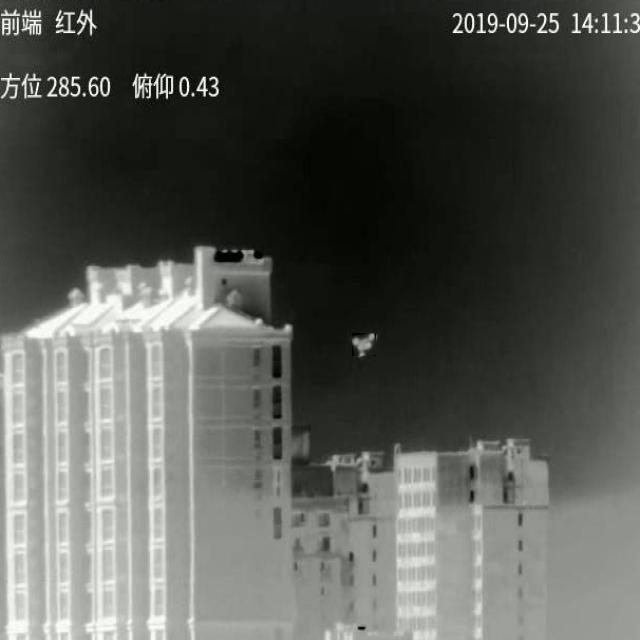drone: (352, 333, 375, 356)
